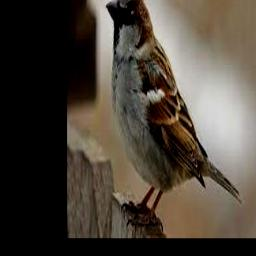Sparrow: (106, 0, 241, 229)
